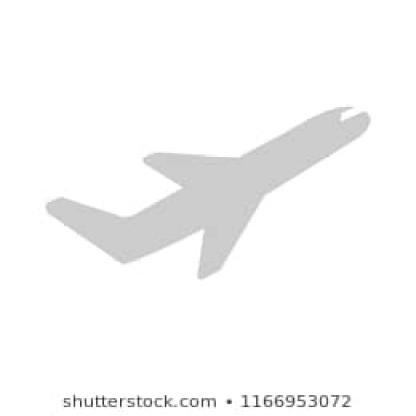CIV_Plane: (37, 99, 374, 281)
